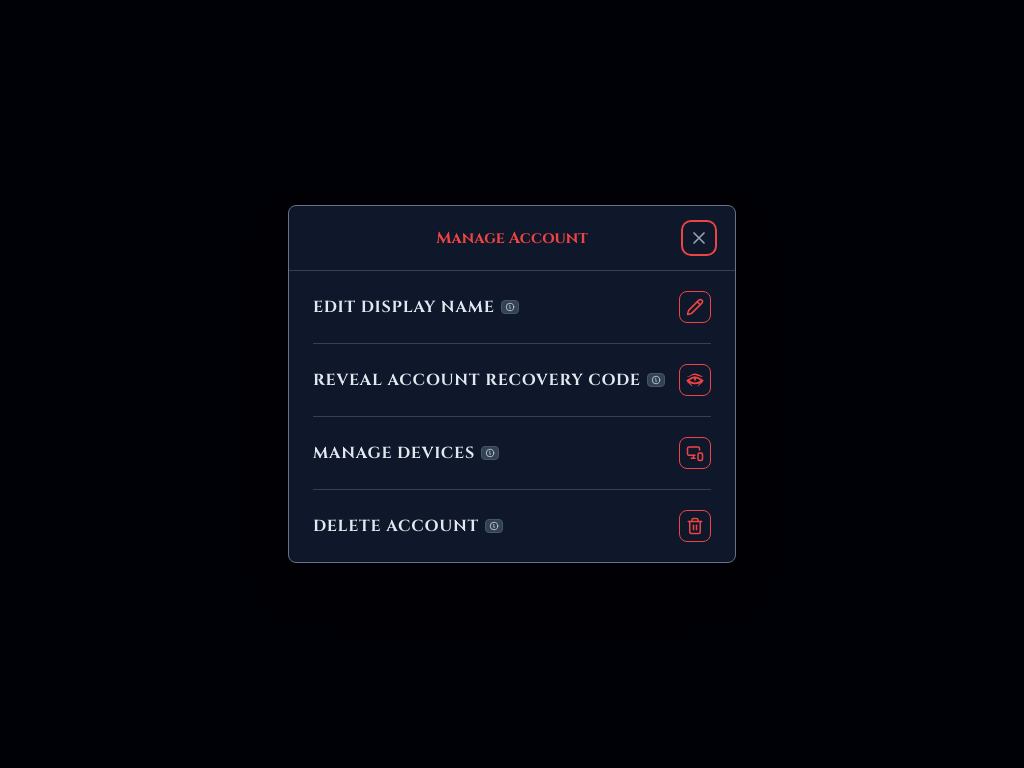
Test: Settings recovery code › generates a code via rotate when none exists, with a success toast
Click the button named "Reveal Account Recovery Code" at coordinates (695, 380), box 679,364 -> 711,396
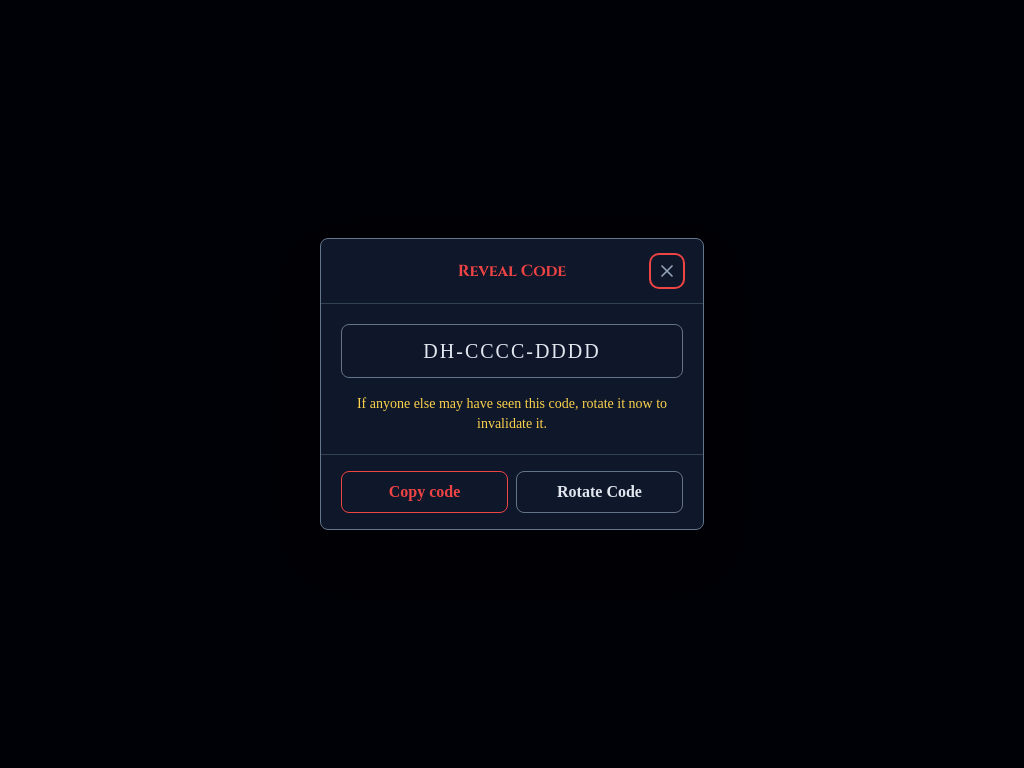
Expected: the text "DH-CCCC-DDDD" is shown, 423,340 -> 601,362
